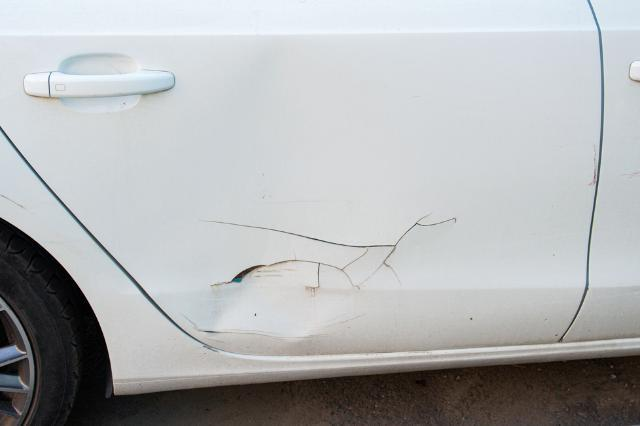Door: (106, 148, 563, 411)
